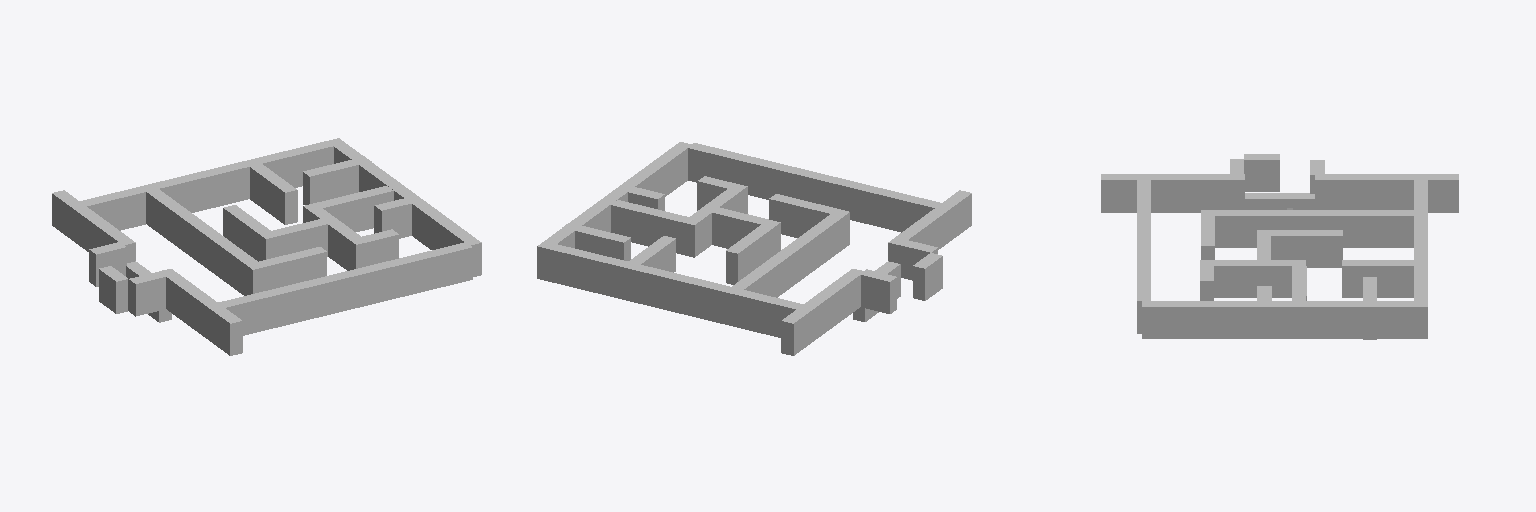
The model's file is Maze.obj.
3 renders of one model, left to right at view 1: azimuth 30°, elevation 25°; view 2: azimuth 150°, elevation 25°; view 3: azimuth 270°, elevation 25°, orthographic.
Visible parts, largest first — view 1: stone_wall.025_stone_wall.000, stone_wall.020_stone_wall.000, stone_wall.026_stone_wall.000, stone_wall.024_stone_wall.000, stone_wall.022_stone_wall.000, stone_wall.021_stone_wall.000, stone_wall.018_stone_wall.000, stone_wall.022_stone_wall.001, stone_wall.026, stone_wall.024, stone_wall.018_stone_wall.019, stone_wall.021_stone_wall.020 (+11 smaller); view 2: stone_wall.026_stone_wall.000, stone_wall.024_stone_wall.000, stone_wall.025_stone_wall.000, stone_wall.020_stone_wall.000, stone_wall.018_stone_wall.000, stone_wall.022_stone_wall.000, stone_wall.021_stone_wall.000, stone_wall.022_stone_wall.001, stone_wall.025, stone_wall.027, stone_wall.018_stone_wall.019, stone_wall.022_stone_wall.002 (+12 smaller); view 3: stone_wall.022_stone_wall.001, stone_wall.022_stone_wall.000, stone_wall.022_stone_wall.002, stone_wall.018_stone_wall.000, stone_wall.021_stone_wall.000, stone_wall.027, stone_wall.024, stone_wall.022_stone_wall.021, stone_wall.020_stone_wall.002_stone_wall.020_stone_wall.004, stone_wall.021_stone_wall.030, stone_wall.020_stone_wall.001_stone_wall.020_stone_wall.003, stone_wall.025_stone_wall.000 (+6 smaller).
Boxes of the visible parts, x1,y1,x2,y2 form: stone_wall.025_stone_wall.000: [342, 242, 472, 309]; stone_wall.020_stone_wall.000: [218, 272, 348, 335]; stone_wall.026_stone_wall.000: [204, 141, 333, 208]; stone_wall.024_stone_wall.000: [80, 171, 209, 230]; stone_wall.022_stone_wall.000: [160, 269, 242, 355]; stone_wall.021_stone_wall.000: [146, 189, 228, 275]; stone_wall.018_stone_wall.000: [52, 190, 135, 262]; stone_wall.022_stone_wall.001: [398, 190, 481, 276]; stone_wall.026: [303, 156, 371, 204]; stone_wall.024: [250, 164, 297, 224]; stone_wall.018_stone_wall.019: [259, 247, 326, 290]; stone_wall.021_stone_wall.020: [259, 219, 327, 260]; stone_wall.026_stone_wall.000: [549, 244, 678, 311]; stone_wall.024_stone_wall.000: [673, 274, 802, 337]; stone_wall.025_stone_wall.000: [688, 143, 816, 201]; stone_wall.020_stone_wall.000: [811, 173, 941, 232]; stone_wall.018_stone_wall.000: [781, 269, 862, 355]; stone_wall.022_stone_wall.000: [888, 190, 971, 263]; stone_wall.021_stone_wall.000: [732, 235, 814, 297]; stone_wall.022_stone_wall.001: [609, 142, 691, 201]; stone_wall.025: [620, 207, 688, 254]; stone_wall.027: [726, 225, 773, 284]; stone_wall.018_stone_wall.019: [769, 194, 836, 237]; stone_wall.022_stone_wall.002: [537, 194, 620, 281]; stone_wall.022_stone_wall.001: [1142, 301, 1284, 338]; stone_wall.022_stone_wall.000: [1101, 174, 1244, 212]; stone_wall.022_stone_wall.002: [1285, 301, 1427, 338]; stone_wall.018_stone_wall.000: [1315, 174, 1458, 212]; stone_wall.021_stone_wall.000: [1272, 210, 1413, 247]; stone_wall.027: [1271, 230, 1342, 267]; stone_wall.024: [1342, 260, 1413, 297]; stone_wall.022_stone_wall.021: [1200, 260, 1271, 297]; stone_wall.020_stone_wall.002_stone_wall.020_stone_wall.004: [1201, 210, 1271, 247]; stone_wall.021_stone_wall.030: [1244, 154, 1279, 191]; stone_wall.020_stone_wall.001_stone_wall.020_stone_wall.003: [1244, 193, 1314, 209]; stone_wall.025_stone_wall.000: [1137, 241, 1150, 333].
Bounding box in the file's own units: 60.89 × 9.46 × 59.86.